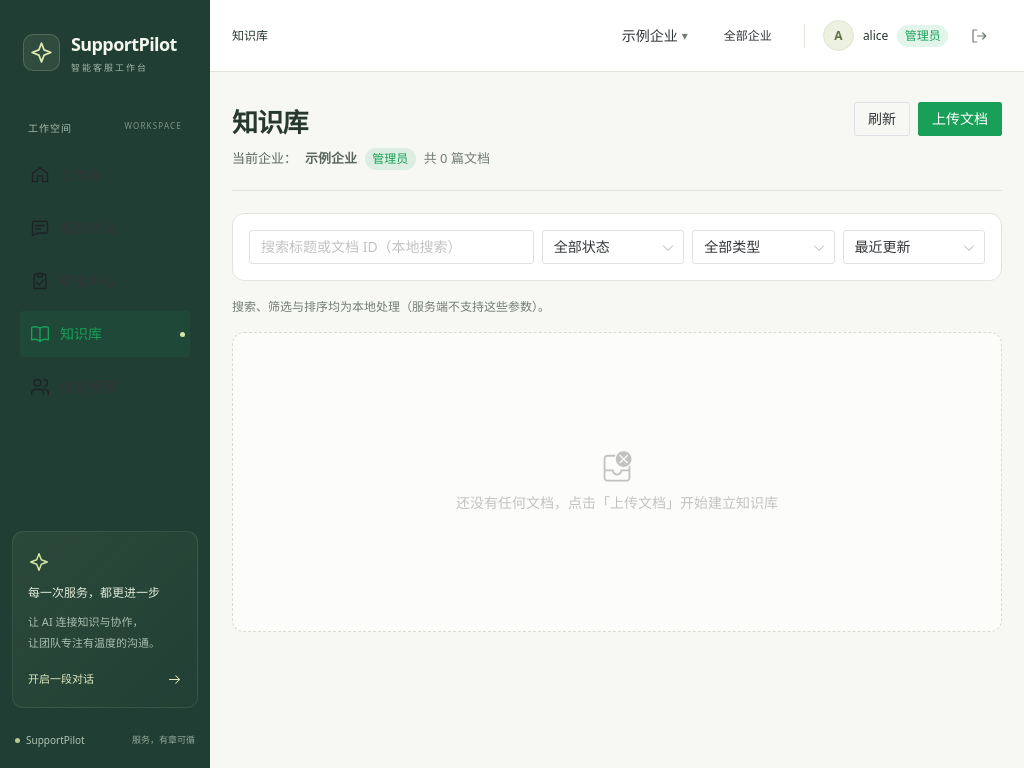
Test case: KnowledgeListView 角色与状态操作 › 点击「上传文档」打开上传对话框
The width and height of the screenshot is (1024, 768).
Click the button with test id "open-upload-dialog".
click(960, 119)  # box top-left (918, 102), bottom-right (1002, 136)
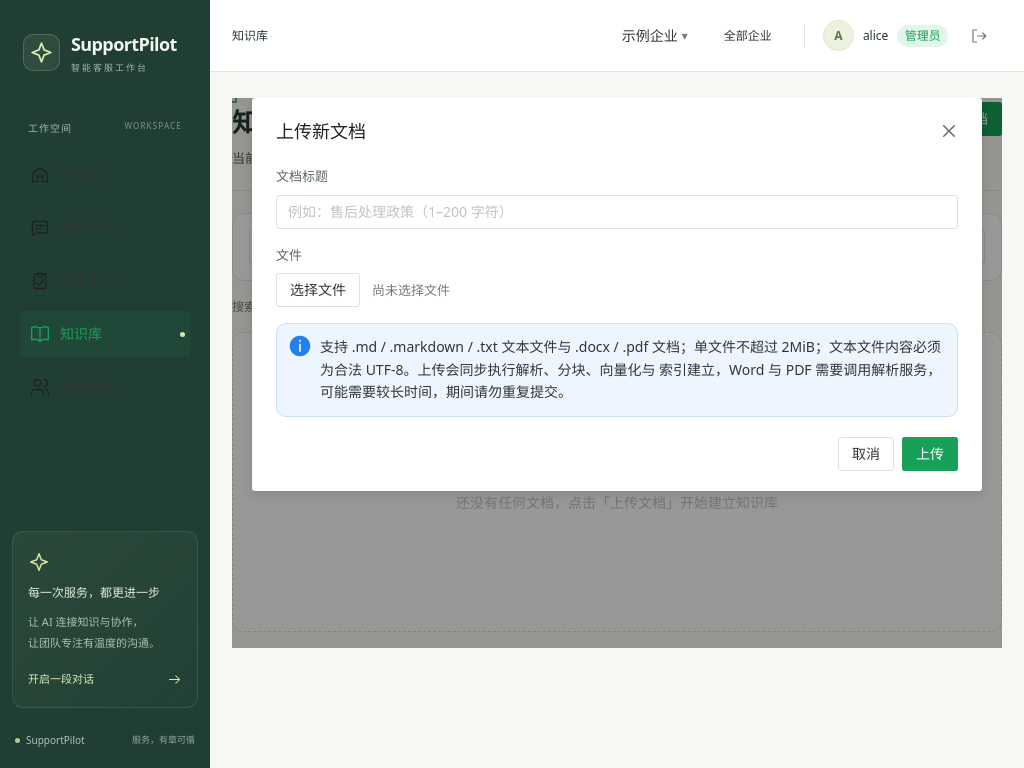
Expected: the dialog with test id "upload-document-dialog" is shown, top-left (252, 98), bottom-right (982, 491)
Expected: the element with test id "document-title-input" is shown, top-left (276, 195), bottom-right (958, 229)
